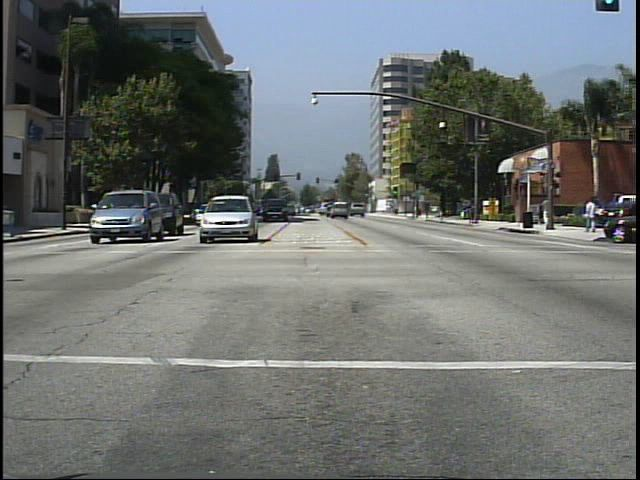person: (535, 193, 555, 235), (581, 196, 598, 234)
